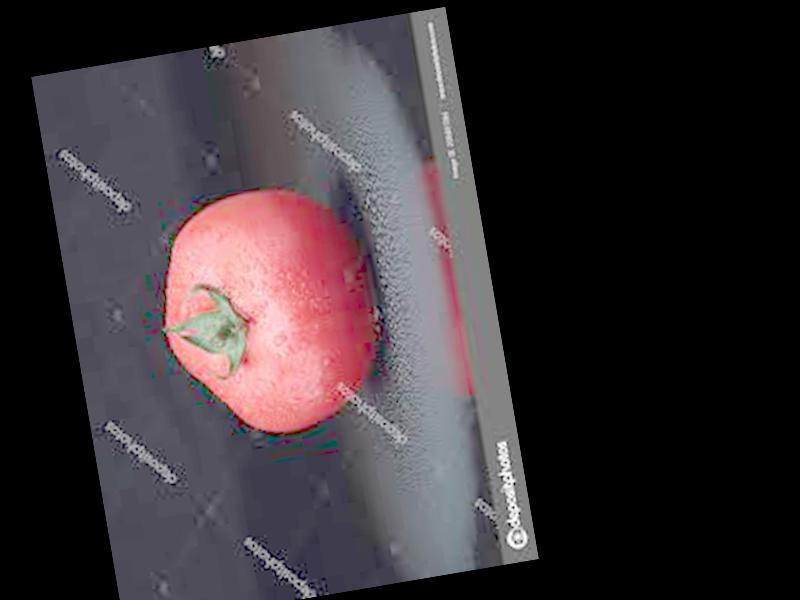Tomato: (143, 173, 392, 449)
